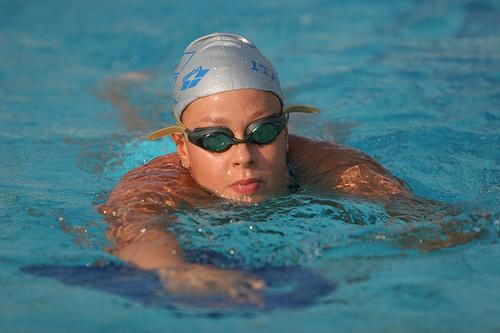swimmer: (105, 30, 480, 308)
